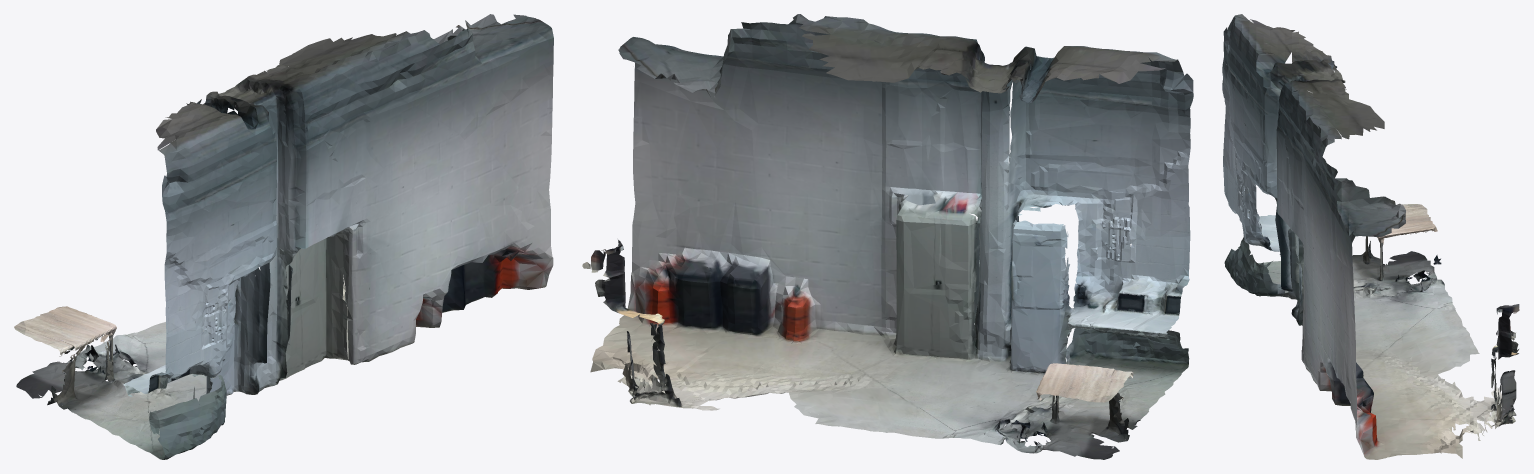
3 renders of one model, left to right at view 1: azimuth 30°, elevation 25°; view 2: azimuth 150°, elevation 25°; view 3: azimuth 270°, elevation 25°, orthographic. The views are drawn at different scales.
Visible parts, largest first — view 1: mesh; view 2: mesh; view 3: mesh.
Boxes of the visible parts, box(x1,y1,x2,y2) form: mesh: box(14, 14, 553, 459); mesh: box(582, 14, 1193, 459); mesh: box(1222, 14, 1519, 459).
Bounding box in the file's own units: 6.88 × 4.25 × 4.18.
1 material, 1 textured.
